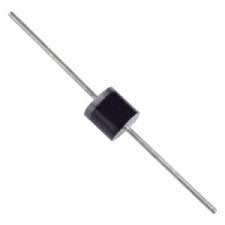diode: (63, 66, 175, 172)
